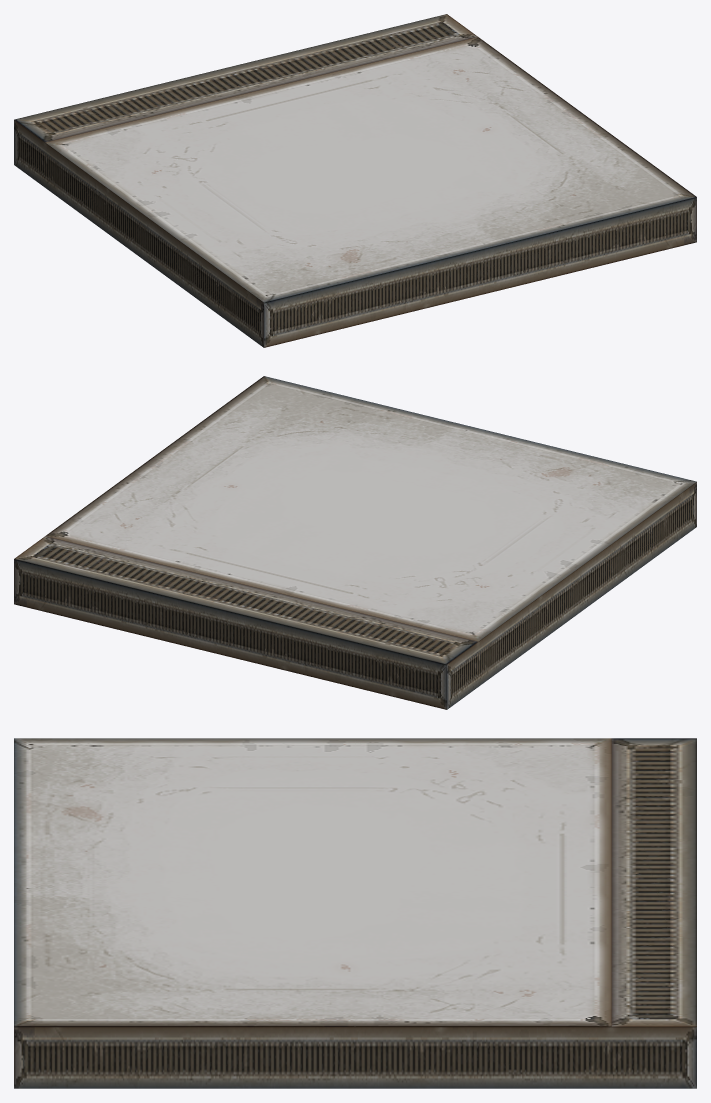
Rendered from scifi_floor_mosaic_11.FBX.
3 renders of one model, top to bottom at view 1: azimuth 30°, elevation 25°; view 2: azimuth 150°, elevation 25°; view 3: azimuth 270°, elevation 25°, orthographic. The views are drawn at different scales.
Visible parts, largest first — view 1: Plane146; view 2: Plane146; view 3: Plane146.
Part boxes in pixels (x1,y1,x2,y2): Plane146: (14, 14, 696, 347); Plane146: (14, 376, 696, 709); Plane146: (14, 738, 696, 1088).
Size of the model in its own units: 254 by 25.4 by 254.
